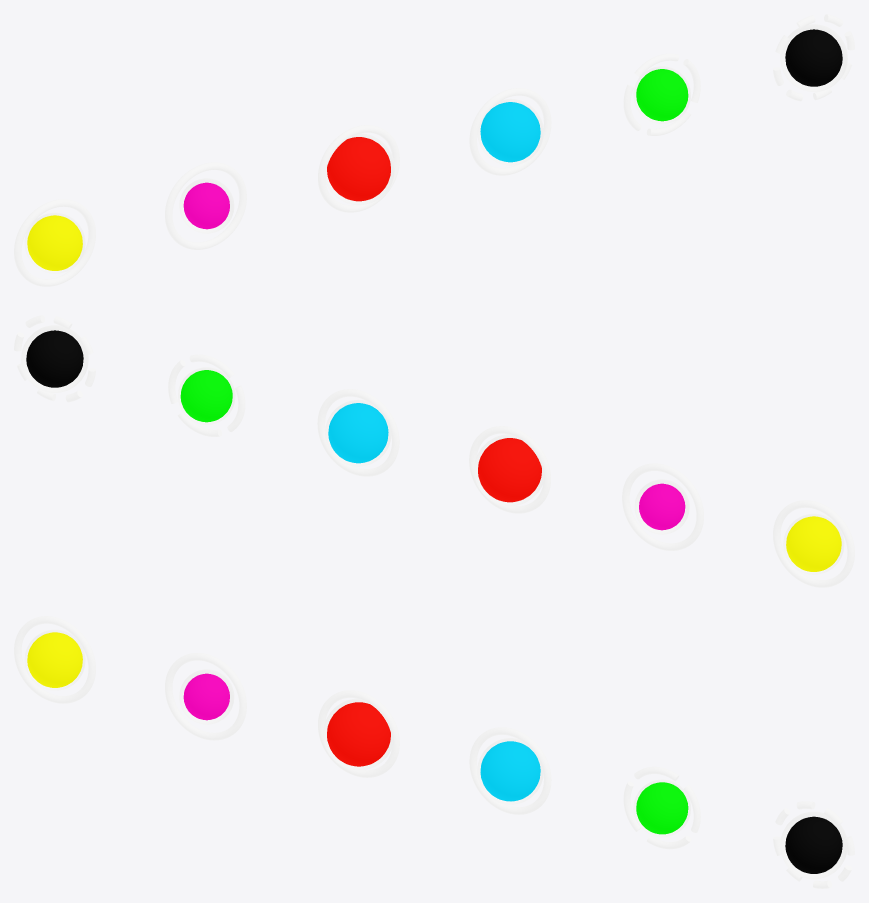
The model's file is gd_orbs_pack_src.glb.
3 views of the same model, one above another, from view 1: azimuth 30°, elevation 25°; view 2: azimuth 150°, elevation 25°; view 3: azimuth 330°, elevation 25° (orthographic).
Parts seen in each view (by area): view 1: Sphere.002_4, Sphere.005_10, Sphere.003_6, Sphere_0, Sphere.004_8, Sphere.001_2, Torus.001_3, Torus_1, Torus.003_7, Torus.002_5, Torus.004_9, Torus.005_11; view 2: Sphere.002_4, Sphere.005_10, Sphere.003_6, Sphere_0, Sphere.004_8, Sphere.001_2, Torus.001_3, Torus_1, Torus.003_7, Torus.002_5, Torus.004_9, Torus.005_11; view 3: Sphere.002_4, Sphere.005_10, Sphere.003_6, Sphere_0, Sphere.004_8, Sphere.001_2, Torus.001_3, Torus_1, Torus.003_7, Torus.002_5, Torus.004_9, Torus.005_11.
Part boxes in pixels (<box>): Sphere.002_4: <box>325,133,394,205</box>; Sphere.005_10: <box>780,24,847,91</box>; Sphere.003_6: <box>477,98,543,165</box>; Sphere_0: <box>24,212,85,273</box>; Sphere.004_8: <box>633,66,690,123</box>; Sphere.001_2: <box>179,178,234,233</box>; Torus.001_3: <box>165,162,246,249</box>; Torus_1: <box>14,199,95,286</box>; Torus.003_7: <box>469,88,551,175</box>; Torus.002_5: <box>318,125,399,212</box>; Torus.004_9: <box>623,53,700,135</box>; Torus.005_11: <box>773,14,854,101</box>; Sphere.002_4: <box>474,434,543,506</box>; Sphere.005_10: <box>21,325,88,392</box>; Sphere.003_6: <box>325,399,391,466</box>; Sphere_0: <box>783,513,844,574</box>; Sphere.004_8: <box>178,367,235,424</box>; Sphere.001_2: <box>634,479,689,534</box>; Torus.001_3: <box>622,463,703,550</box>; Torus_1: <box>773,500,854,587</box>; Torus.003_7: <box>317,389,399,476</box>; Torus.002_5: <box>469,426,550,513</box>; Torus.004_9: <box>168,354,245,436</box>; Torus.005_11: <box>14,315,95,402</box>; Sphere.002_4: <box>323,698,392,770</box>; Sphere.005_10: <box>780,811,847,879</box>; Sphere.003_6: <box>477,738,543,804</box>; Sphere_0: <box>24,629,85,690</box>; Sphere.004_8: <box>633,779,690,837</box>; Sphere.001_2: <box>179,669,234,724</box>; Torus.001_3: <box>165,653,246,740</box>; Torus_1: <box>14,616,95,703</box>; Torus.003_7: <box>469,727,551,814</box>; Torus.002_5: <box>318,690,399,777</box>; Torus.004_9: <box>623,766,700,849</box>; Torus.005_11: <box>773,801,854,888</box>.
Bounding box in the file's own units: 8.34 × 0.8081 × 0.6209.
